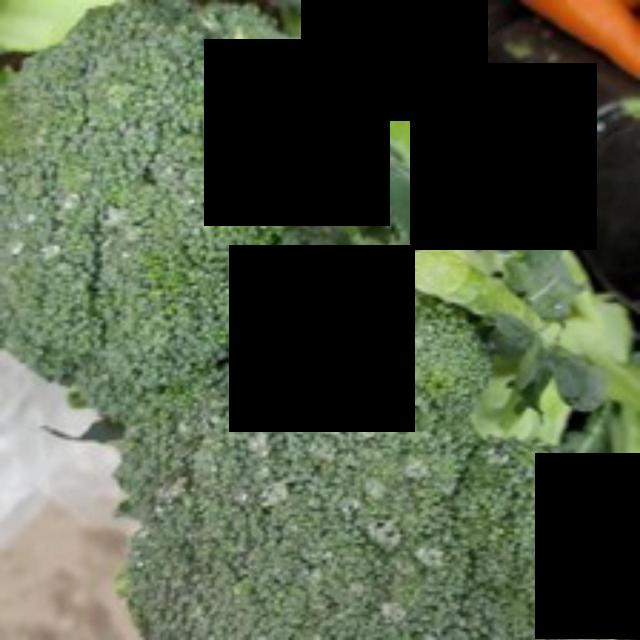broccoli: (114, 246, 637, 636)
